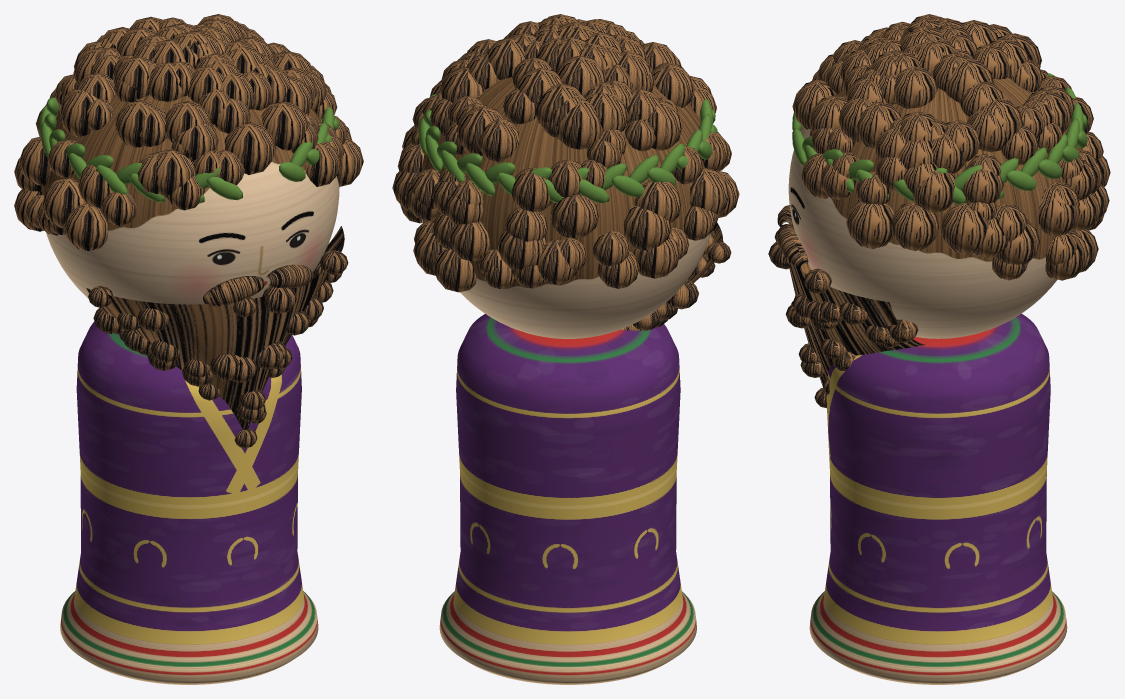
File: marcus.glb
3 views of the same model, side by side, from view 1: azimuth 30°, elevation 25°; view 2: azimuth 150°, elevation 25°; view 3: azimuth 270°, elevation 25° (orthographic).
Parts seen in each view (by area): view 1: Marcus Aurelius, body, head; view 2: body, Marcus Aurelius, head; view 3: body, Marcus Aurelius, head.
Boxes of the visible parts, x1=… form: Marcus Aurelius: x1=14, y1=14, x2=363, y2=448; body: x1=60, y1=321, x2=318, y2=684; head: x1=42, y1=94, x2=339, y2=304; body: x1=439, y1=314, x2=696, y2=684; Marcus Aurelius: x1=392, y1=14, x2=739, y2=330; head: x1=421, y1=67, x2=711, y2=338; body: x1=809, y1=313, x2=1067, y2=684; Marcus Aurelius: x1=768, y1=14, x2=1110, y2=408; head: x1=788, y1=77, x2=1082, y2=338.
Bounding box in the file's own units: 0.0866 × 0.1671 × 0.0857.
8 materials, 6 textured.
